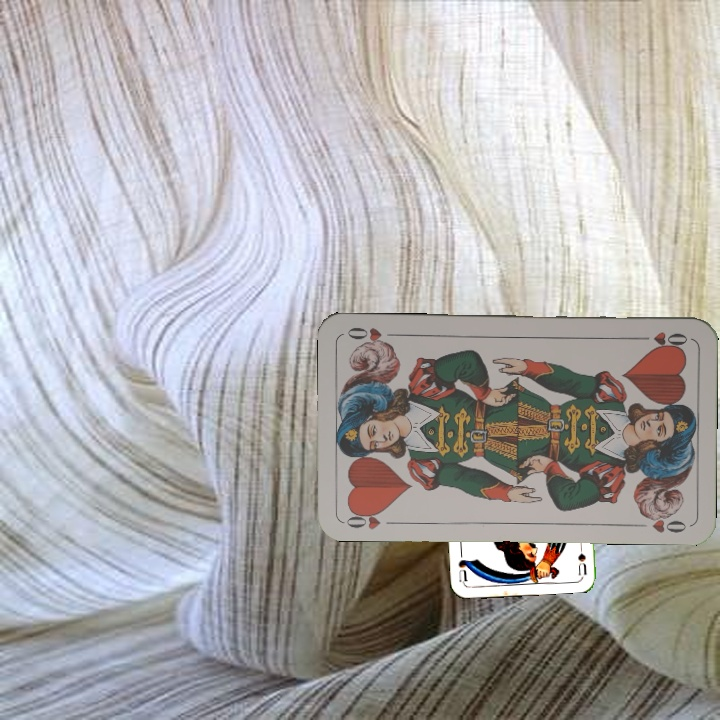HO: (341, 506, 399, 532), (632, 327, 691, 350)
SU: (574, 535, 589, 576)
